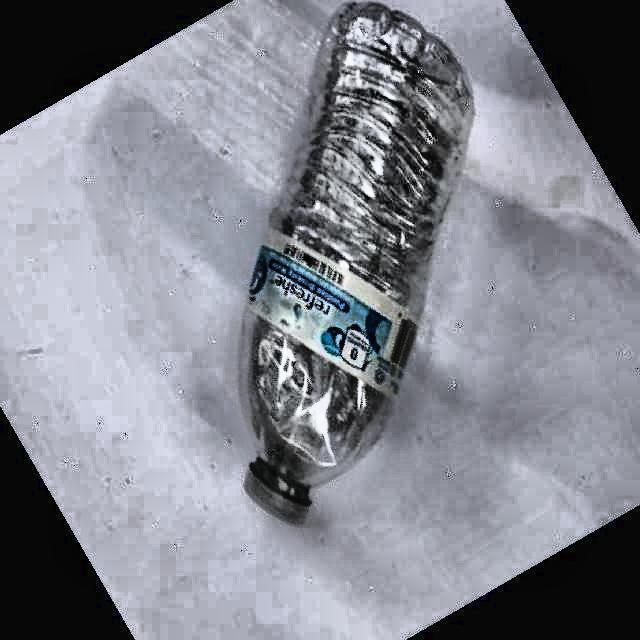plastic: (239, 2, 472, 524)
